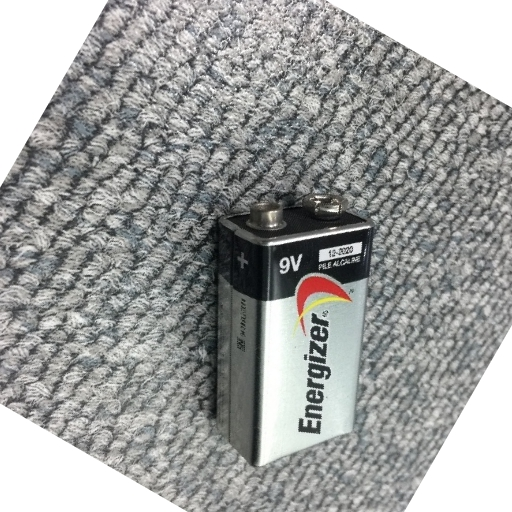Battery_3: (199, 175, 383, 474)
